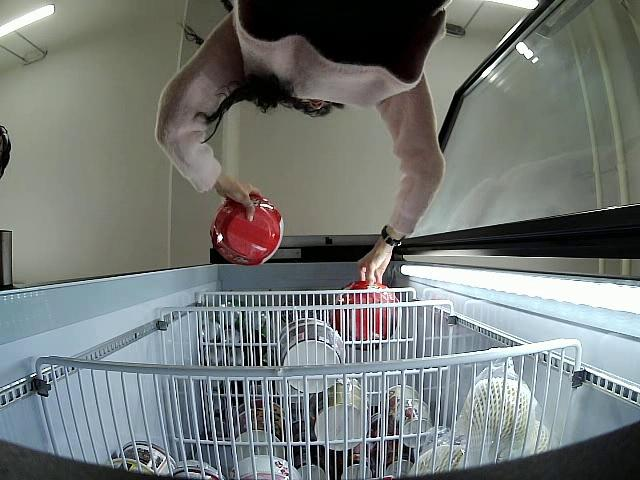00_hand: (217, 175, 265, 223), (357, 243, 391, 286)
10_wangTtukkeong: (331, 279, 403, 350), (211, 197, 281, 264)
